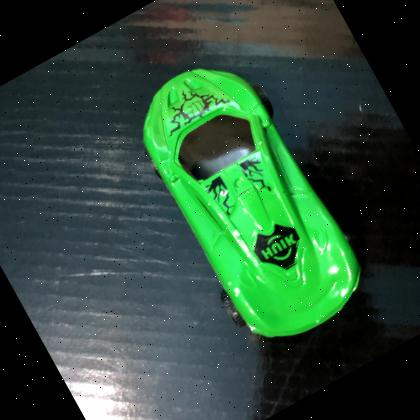Car: (112, 38, 382, 364)
